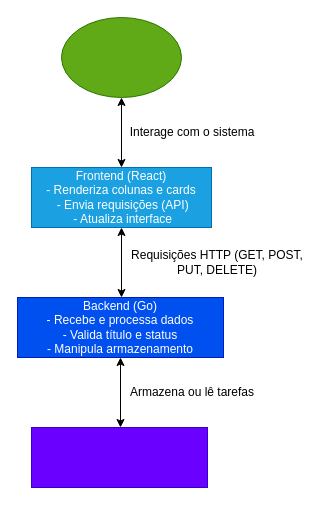
Some shapes in this 325 by 505 pixel diagram are drawn without their labels. Each missing label, with the box of its shape:
Armazenamento - Guarda lista de tarefas - Retorna dados para API: (30, 426, 208, 488)
Usuário: (60, 16, 182, 98)
